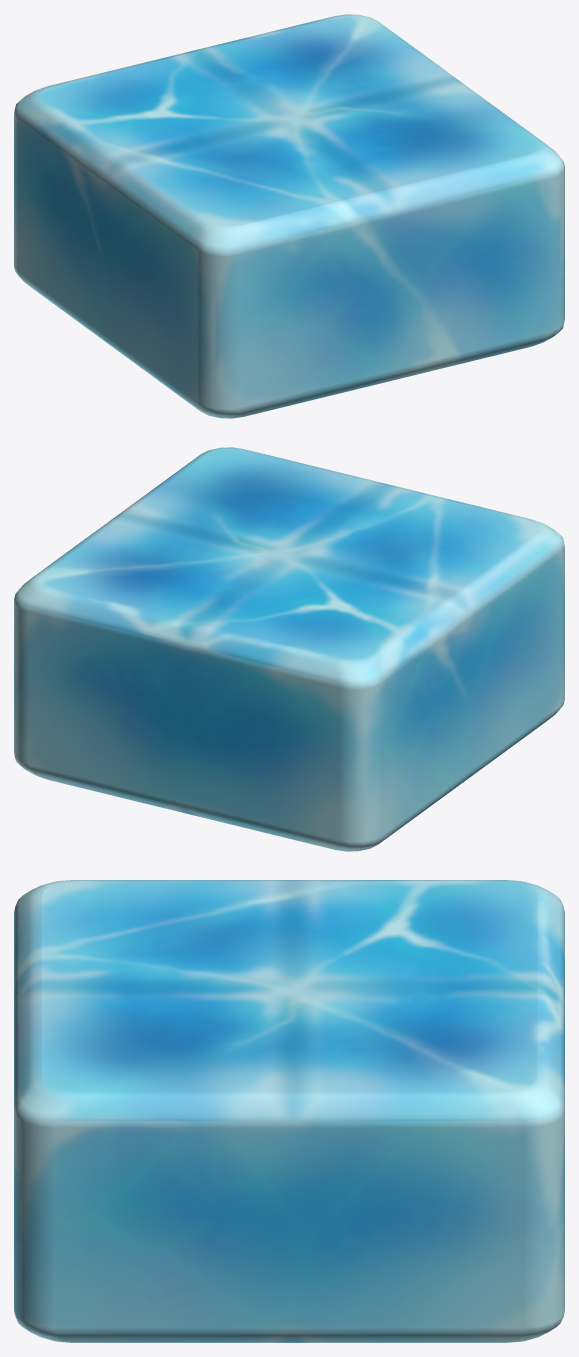
Rendered from Ice_Block_04.fbx.
3 renders of one model, top to bottom at view 1: azimuth 30°, elevation 25°; view 2: azimuth 150°, elevation 25°; view 3: azimuth 270°, elevation 25°, orthographic. The views are drawn at different scales.
Parts seen in each view (by area): view 1: Ice_Block_04; view 2: Ice_Block_04; view 3: Ice_Block_04.
Part boxes in pixels (x1,y1,x2,y2): Ice_Block_04: [14, 14, 564, 418]; Ice_Block_04: [14, 447, 564, 851]; Ice_Block_04: [14, 880, 564, 1342].
Size of the model in its own units: 2 by 1 by 2.
Materials: 1 (1 with a texture image).
